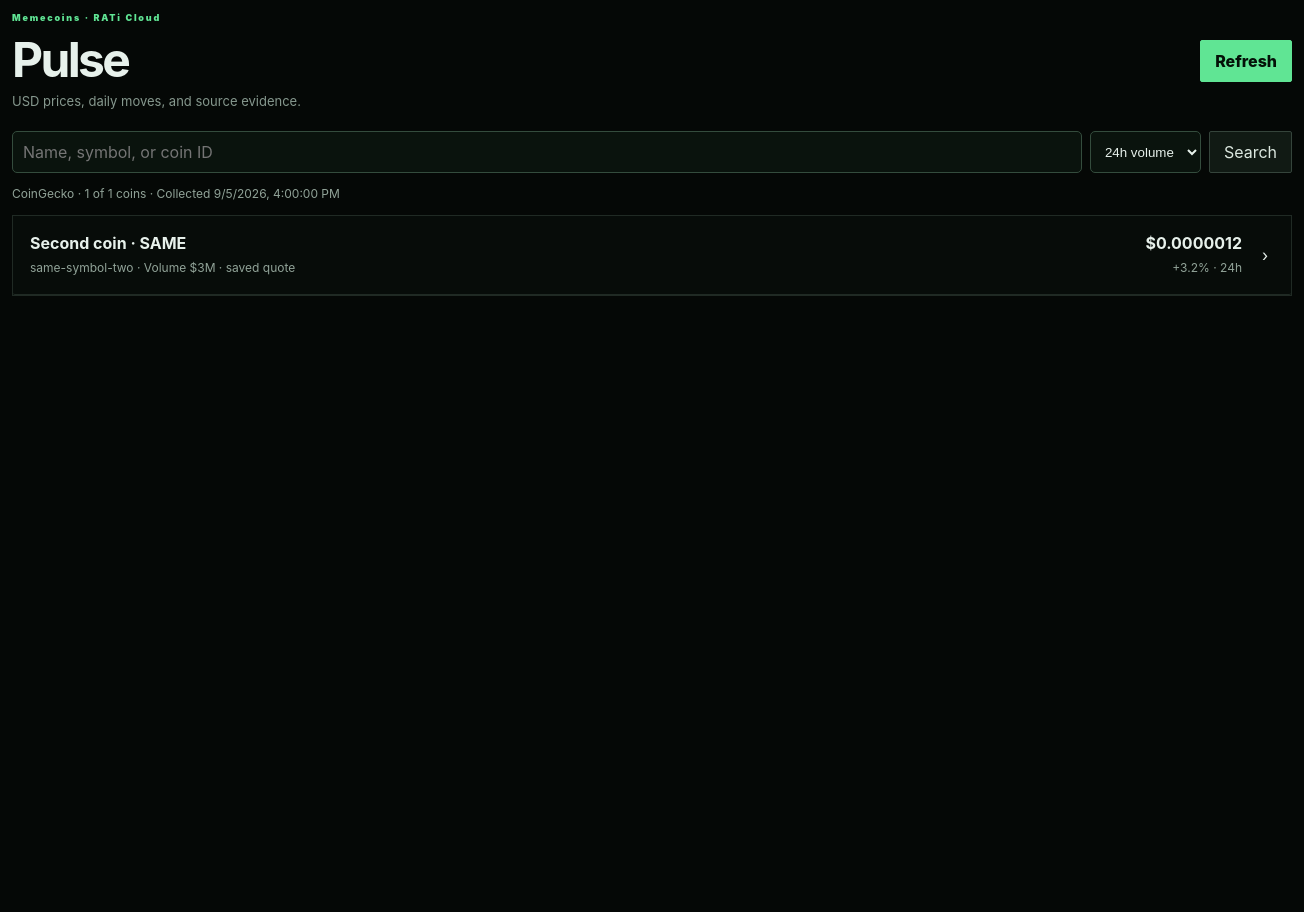
Test case: native market refresh › keeps selected coin evidence visible through refresh errors and updates
Click the button that starts with "Second coin · SAME": (108, 243) [13, 216, 1291, 295]
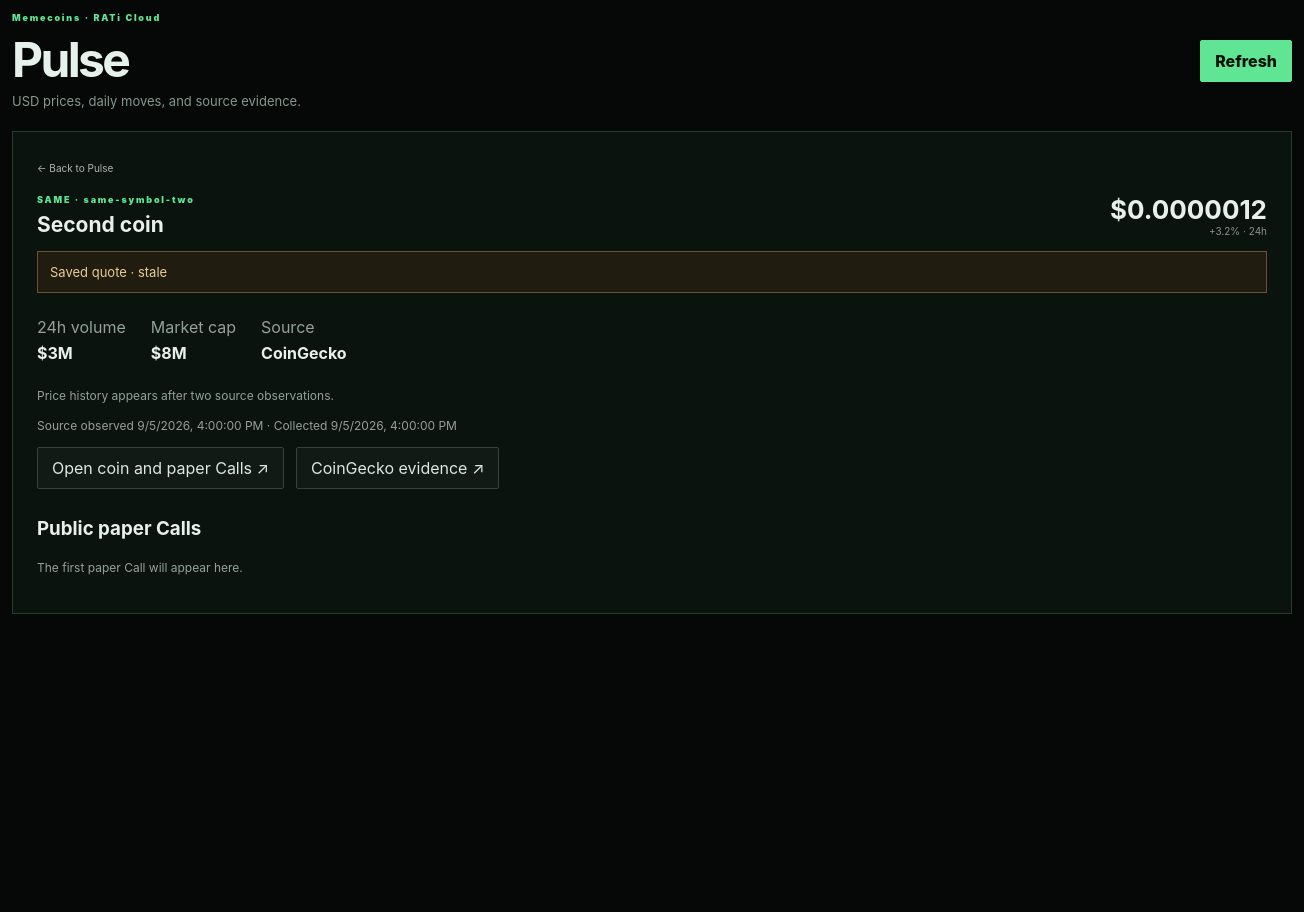
expect the text "Source observed" is shown: met, box [37, 418, 457, 433]
Click the button "Refresh": (1246, 60) [1200, 40, 1292, 82]
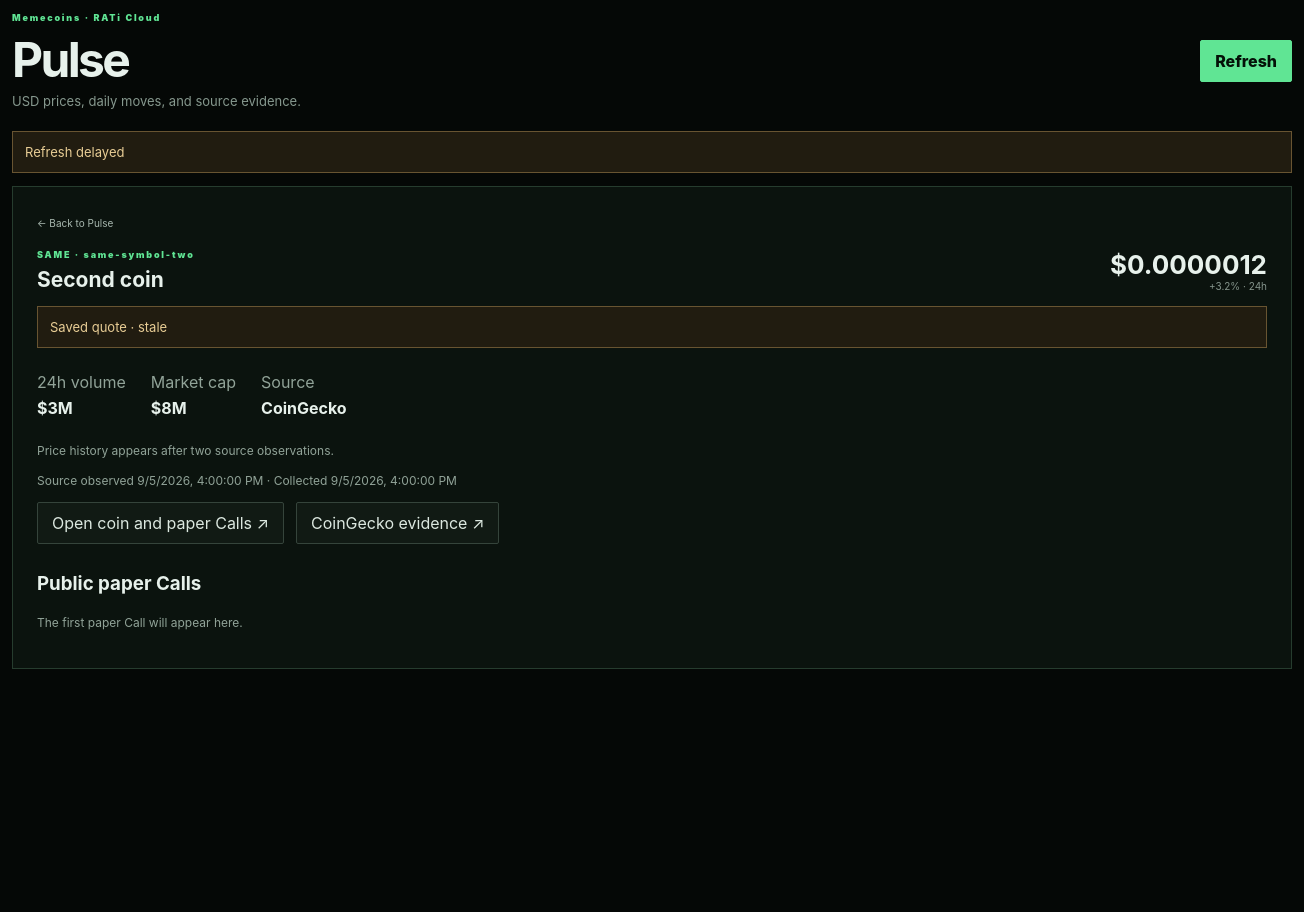
expect the text "$0.0000012" is shown: met, box [1110, 249, 1267, 280]
expect the text "Source observed" is shown: met, box [37, 473, 457, 488]
expect the message "Refresh delayed" is shown: met, box [12, 131, 1292, 173]
Click the button "Refresh": (1246, 60) [1200, 40, 1292, 82]
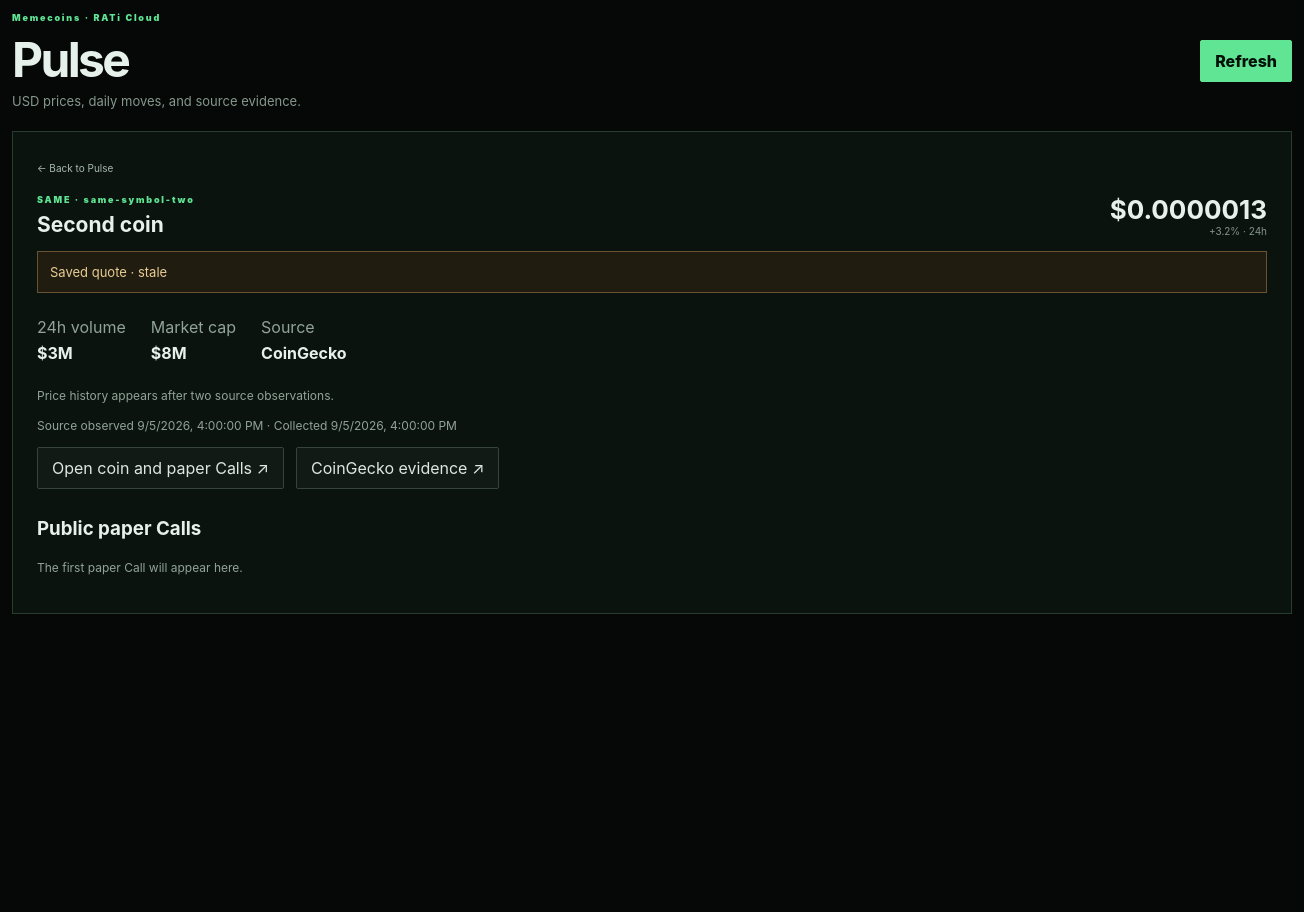
expect the text "Source observed" is shown: met, box [37, 418, 457, 433]
expect the text "$0.0000013" is shown: met, box [1110, 194, 1267, 225]
